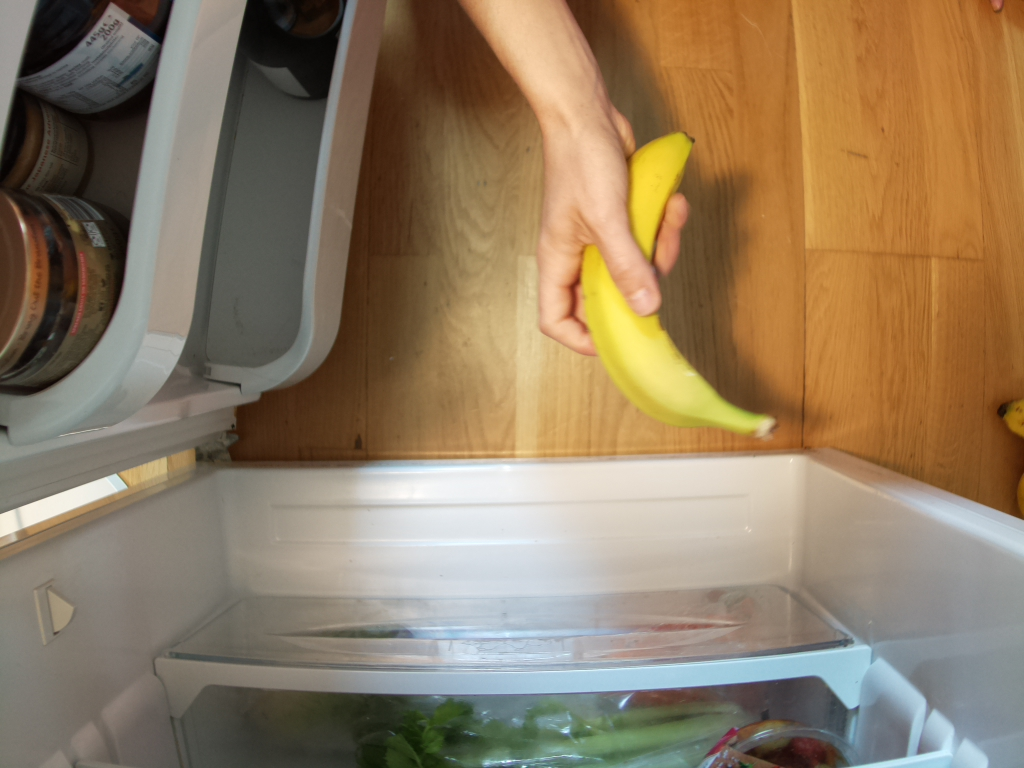banana: (575, 124, 791, 442)
